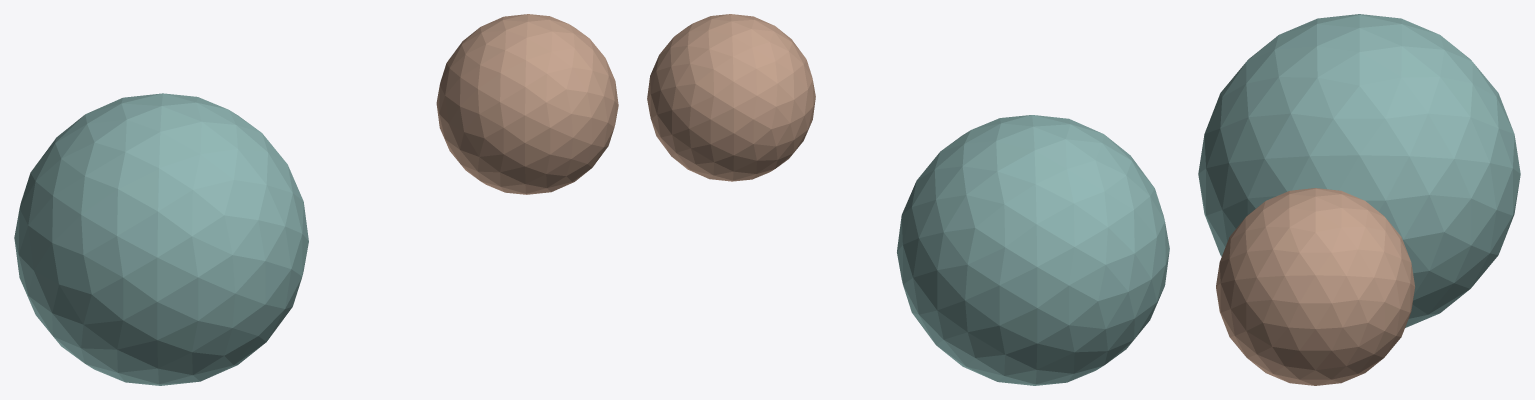
The model's file is ground-truth.glb.
3 renders of one model, left to right at view 1: azimuth 30°, elevation 25°; view 2: azimuth 150°, elevation 25°; view 3: azimuth 270°, elevation 25°, orthographic. The views are drawn at different scales.
Visible parts, largest first — view 1: original_00, original_01; view 2: original_00, original_01; view 3: original_00, original_01.
Boxes of the visible parts, box(x1,y1,x2,y2) form: original_00: box(14, 93, 308, 385); original_01: box(436, 14, 618, 194); original_00: box(897, 115, 1169, 385); original_01: box(647, 14, 815, 181); original_00: box(1198, 14, 1520, 327); original_01: box(1216, 188, 1414, 385).
Bounding box in the file's own units: 2.38 × 1.16 × 1.1.
